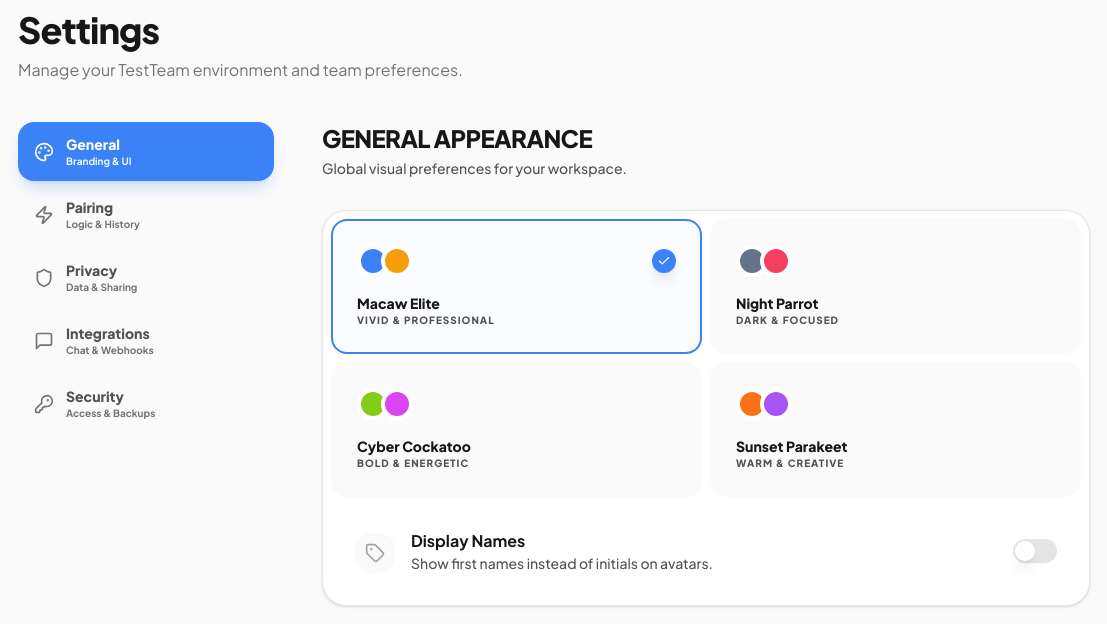
Scenario: SettingsScreen Component › renders correctly and switches tabs
Expected: the text "Manage your TestTeam environment and team preferences." is shown, [18,59,463,80]
// Switch to Pairing tab
Click the text "Pairing". click: click(90, 207)
box: [66,198,113,216]
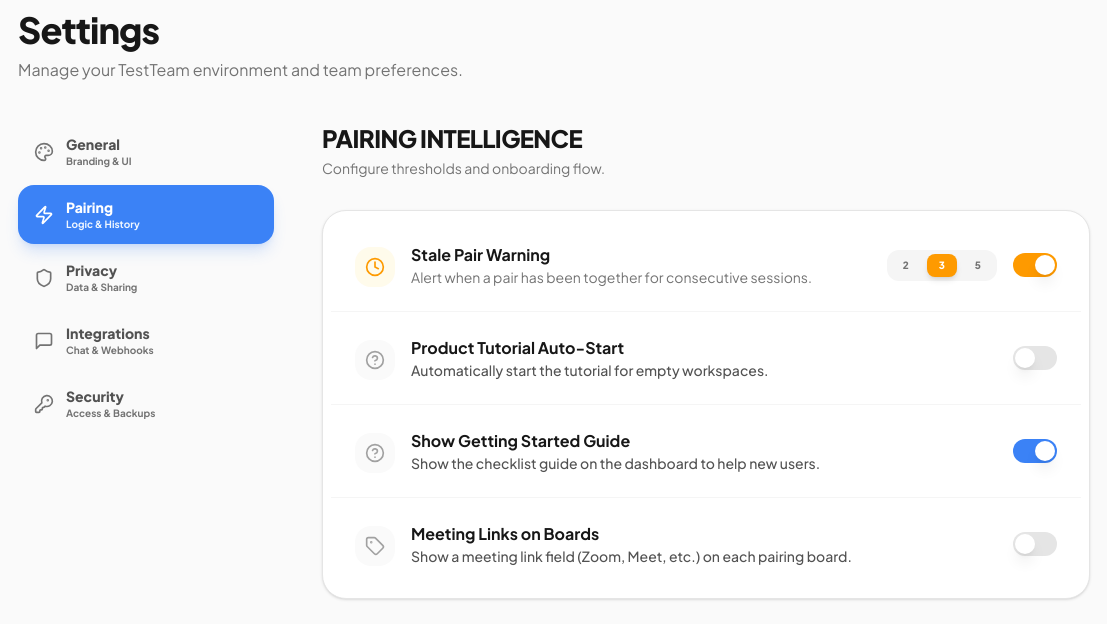
Now the heading "Pairing Intelligence" is shown, box [322,123,582,153]
